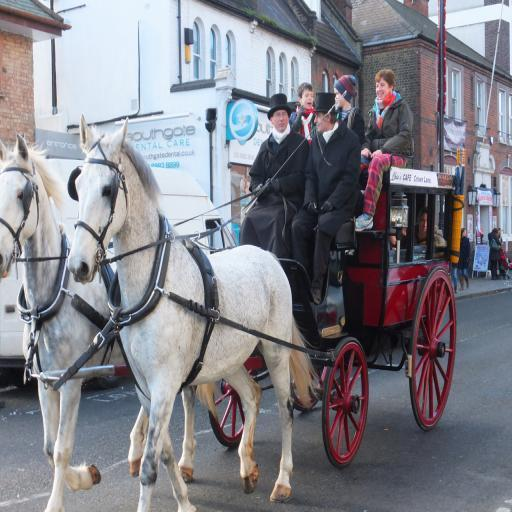horse: (66, 112, 321, 512), (0, 134, 218, 512)
